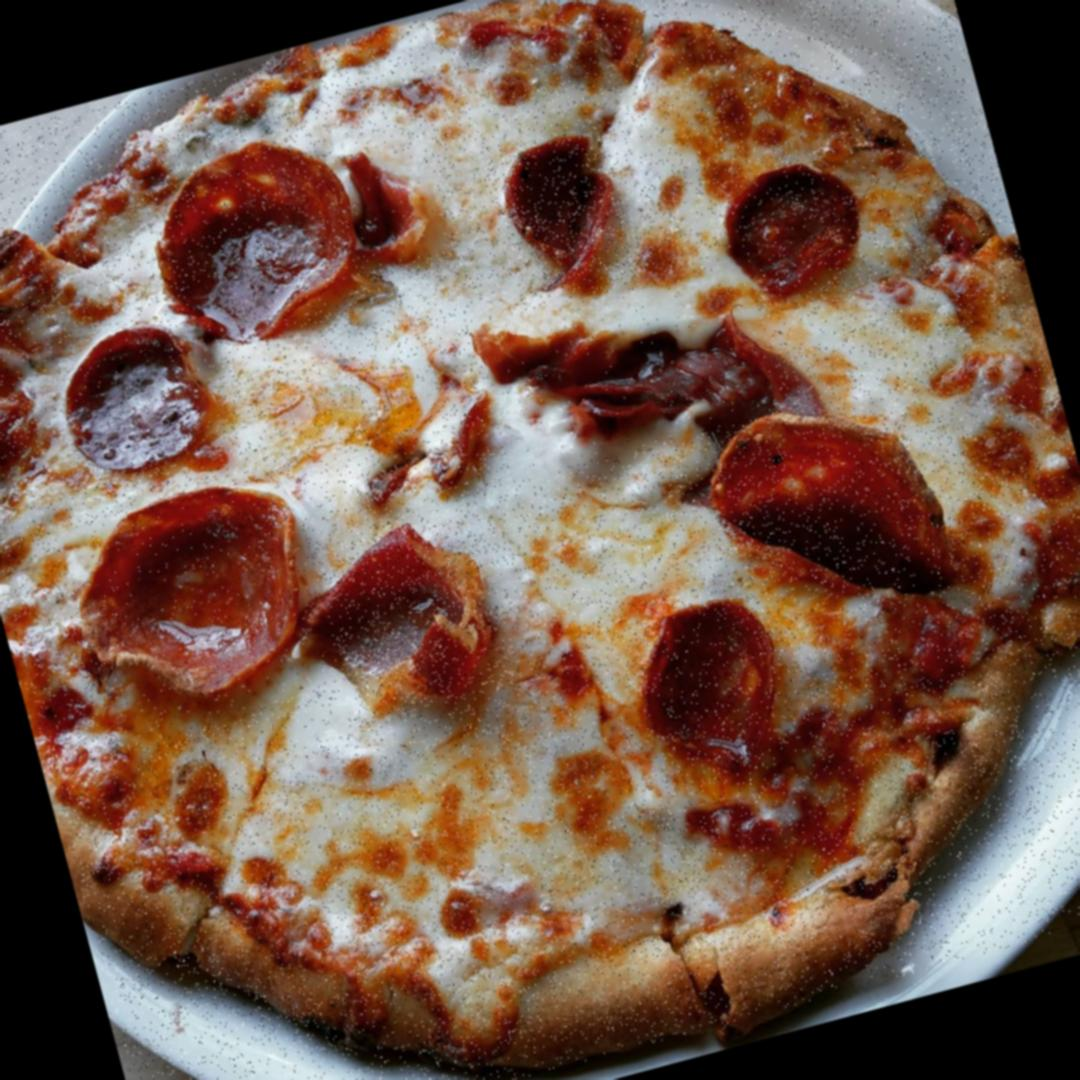Pepperoni: (697, 362, 1006, 636), (59, 472, 346, 748), (472, 254, 785, 481), (128, 120, 387, 374), (298, 511, 516, 734), (31, 309, 232, 490), (624, 594, 794, 785), (482, 129, 641, 304), (708, 153, 878, 304), (346, 148, 448, 270)
Pizza: (0, 0, 1080, 1080)
